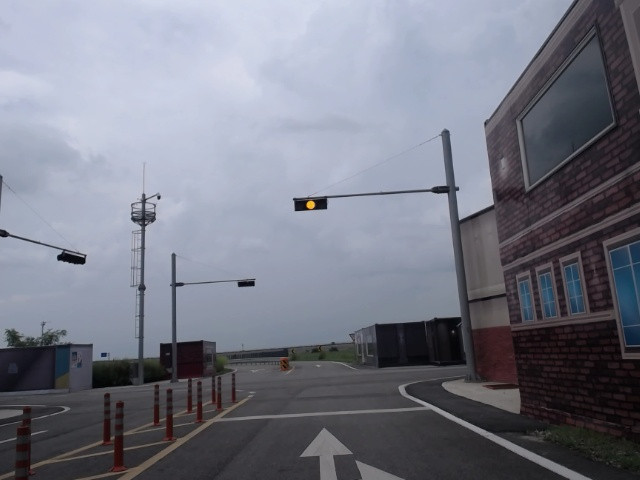orange_3: (294, 197, 327, 212)
